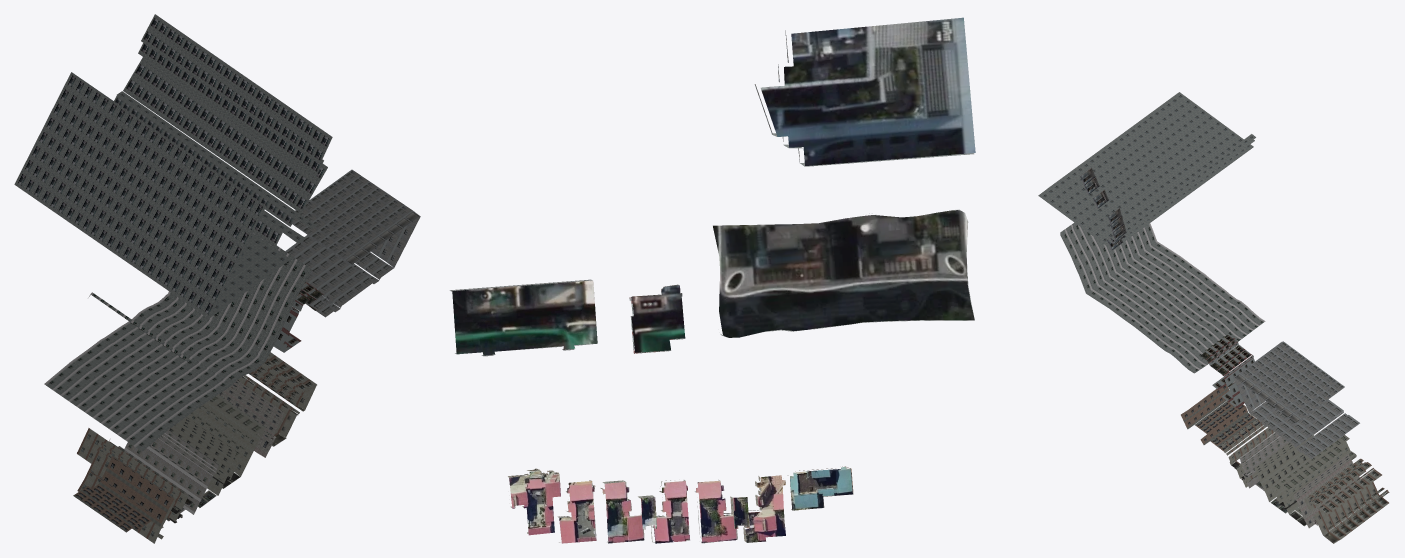
Rendered from tile_LOD4_r4_c15.glb.
3 renders of one model, left to right at view 1: azimuth 30°, elevation 25°; view 2: azimuth 150°, elevation 25°; view 3: azimuth 270°, elevation 25°, orthographic. The views are drawn at different scales.
Size of the model in its own units: 179 by 195 by 166.
Materials: 55 (55 with a texture image).
